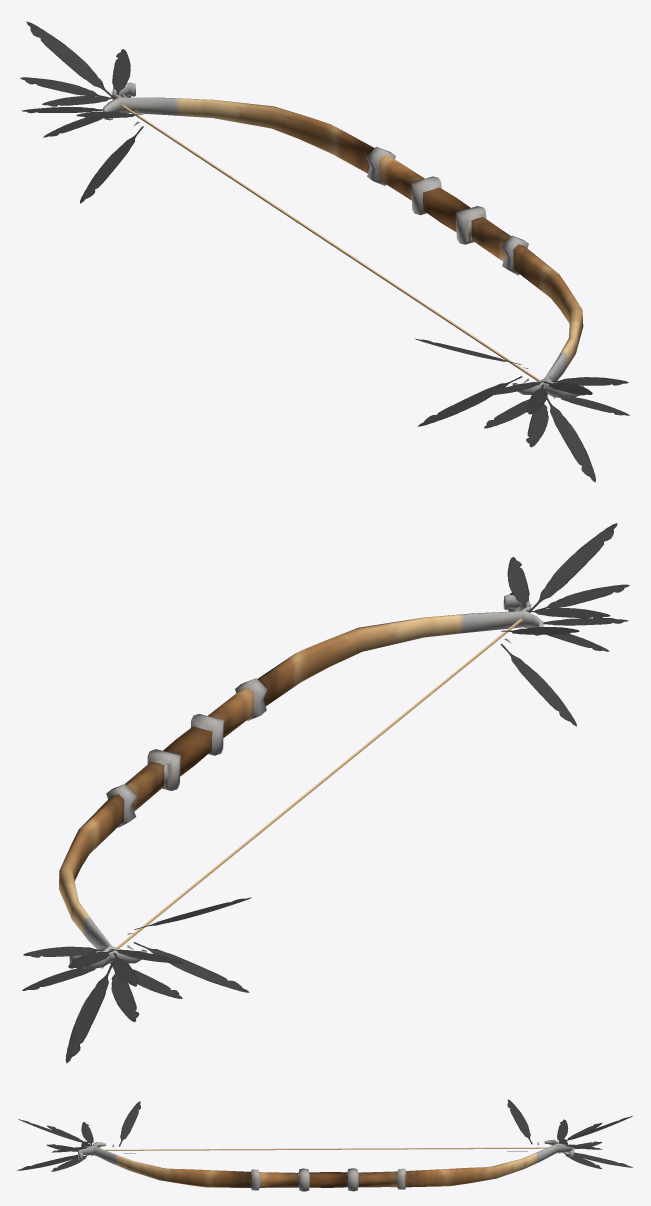
The model's file is BowHuntsman.fbx.
The picture shows the model from 3 angles, top to bottom: view 1: azimuth 30°, elevation 25°; view 2: azimuth 150°, elevation 25°; view 3: azimuth 270°, elevation 25°; orthographic projection. The views are drawn at different scales.
Visible parts, largest first — view 1: SilentHunt; view 2: SilentHunt; view 3: SilentHunt.
Part boxes in pixels (x1,y1,x2,y2): SilentHunt: [20, 21, 629, 482]; SilentHunt: [22, 523, 629, 1063]; SilentHunt: [17, 1099, 632, 1191].
Size of the model in its own units: 0.5658 by 0.2362 by 2.22.
1 material, 1 textured.
